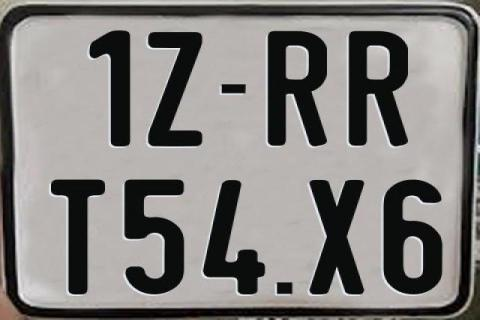0: (382, 177, 446, 297), (201, 178, 263, 296), (123, 178, 184, 294), (88, 28, 134, 145)
R: (268, 31, 330, 149), (348, 31, 409, 149)
T: (51, 177, 108, 293)
X: (307, 178, 363, 298)
Z: (148, 31, 204, 151)
